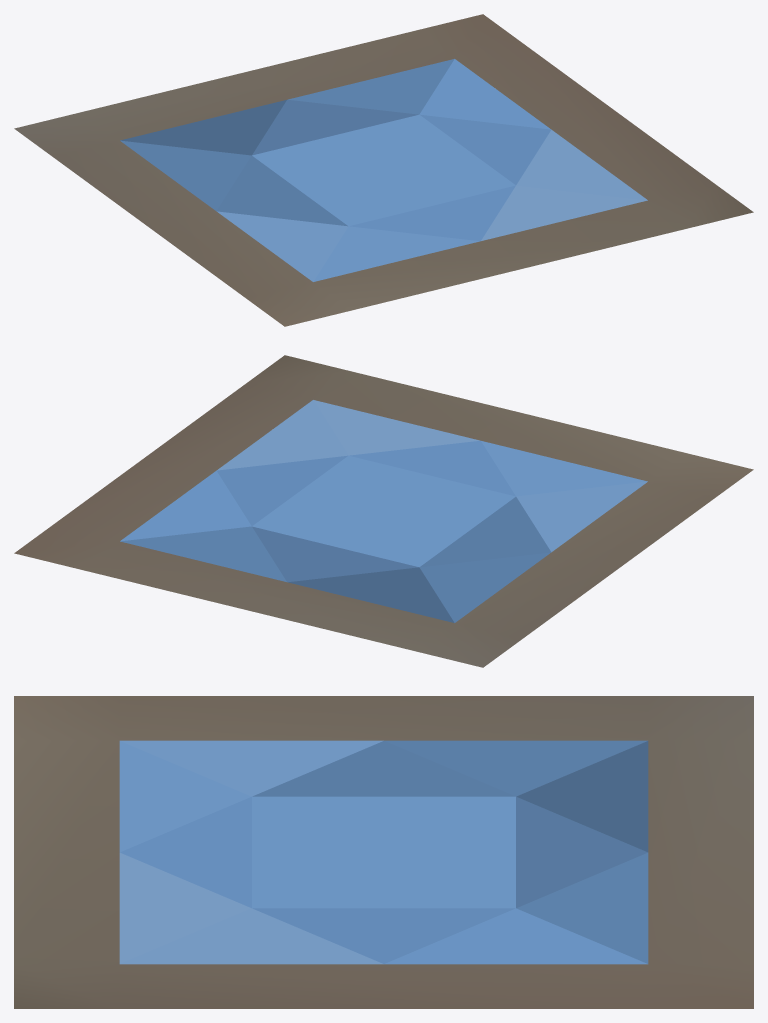
File: Floor-Archway_C.fbx
3 renders of one model, top to bottom at view 1: azimuth 30°, elevation 25°; view 2: azimuth 150°, elevation 25°; view 3: azimuth 270°, elevation 25°, orthographic. The views are drawn at different scales.
Visible parts, largest first — view 1: Floor-Archway_C; view 2: Floor-Archway_C; view 3: Floor-Archway_C.
Part boxes in pixels (x1,y1,x2,y2): Floor-Archway_C: (14, 14, 753, 326); Floor-Archway_C: (14, 355, 753, 667); Floor-Archway_C: (14, 696, 753, 1008).
Size of the model in its own units: 350 by 3.05e-05 by 350.
